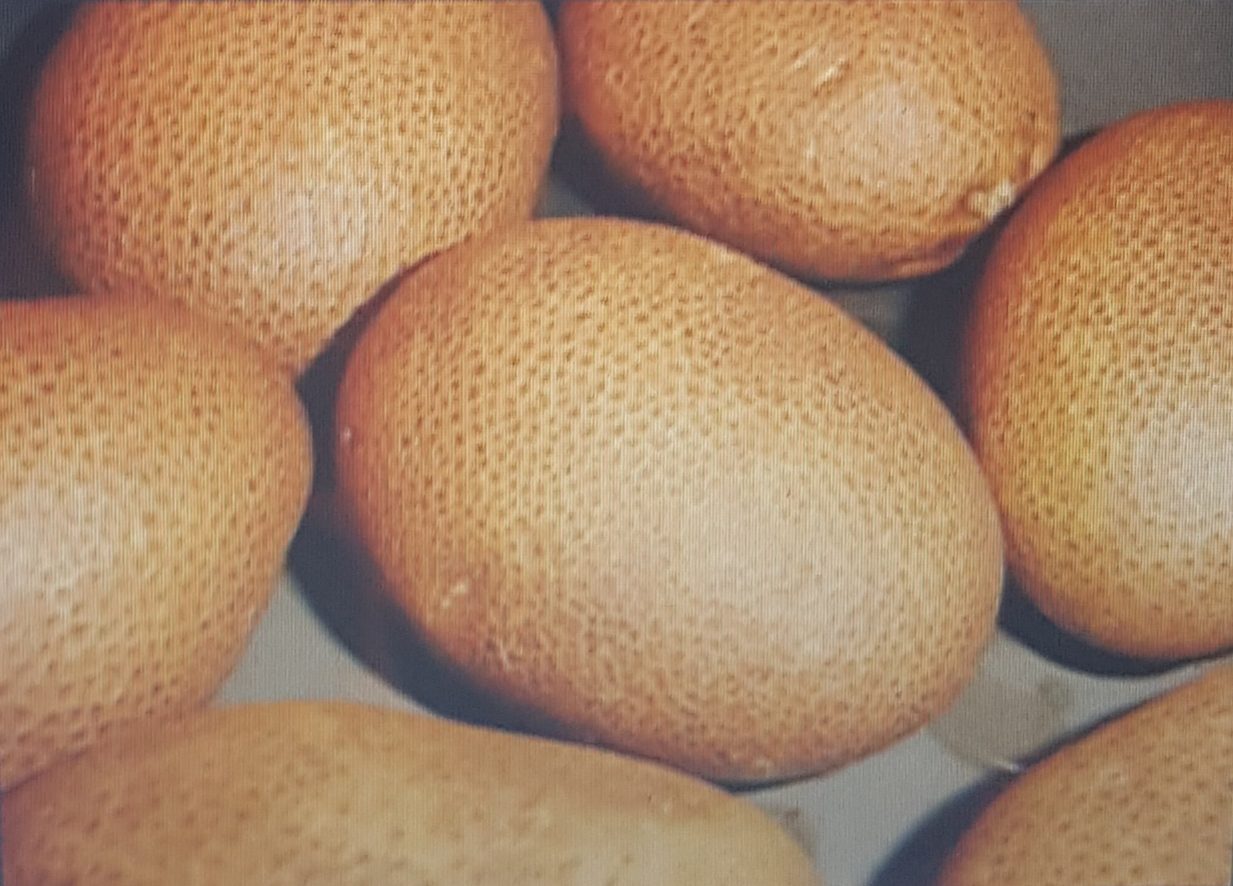Brown: (54, 14, 1213, 870)
